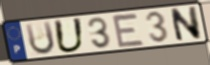3: (144, 10, 171, 45), (87, 16, 111, 50)
E: (110, 13, 147, 49)
N: (168, 5, 203, 44)
U: (52, 16, 86, 54), (23, 20, 57, 57)
